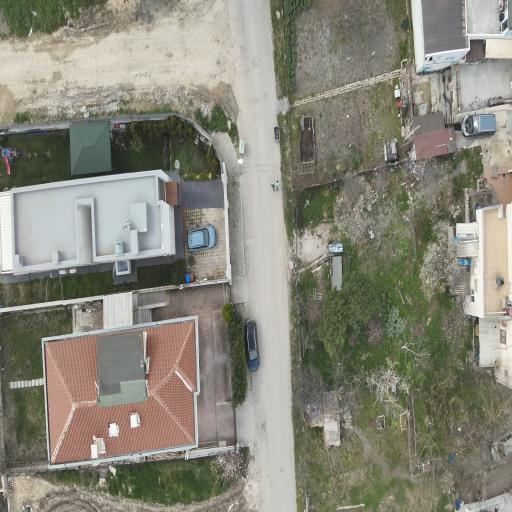car: (462, 114, 496, 137), (188, 226, 216, 251), (246, 320, 259, 371)
person: (276, 181, 279, 191), (272, 183, 275, 191)
